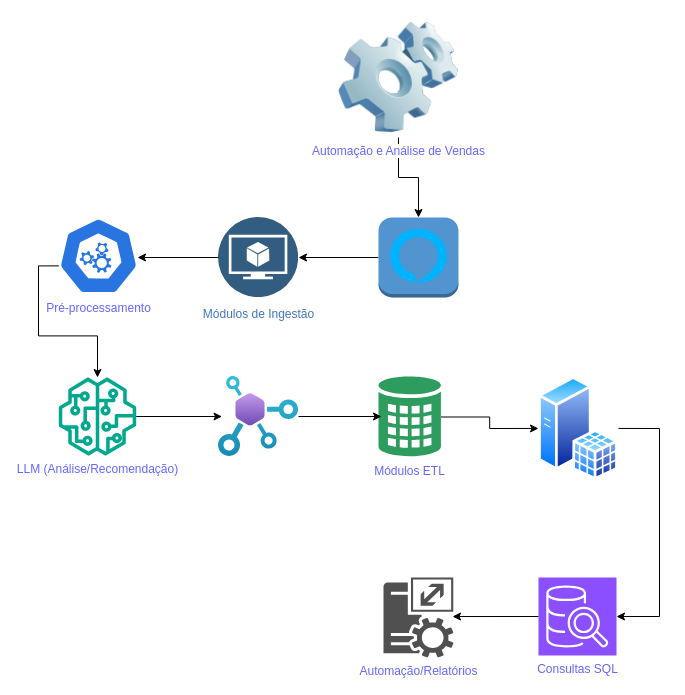
This 685x695 diagram has some shape labels left out. The shapes that lost their labels are listed below. From the top down, each one's centre as x and y in pixels, then its label:
At point 418,257: "Tela/voz".
At point 258,416: "API Hotmart/Redes Sociais".
At point 578,428: "Banco de Dados Relacional".
